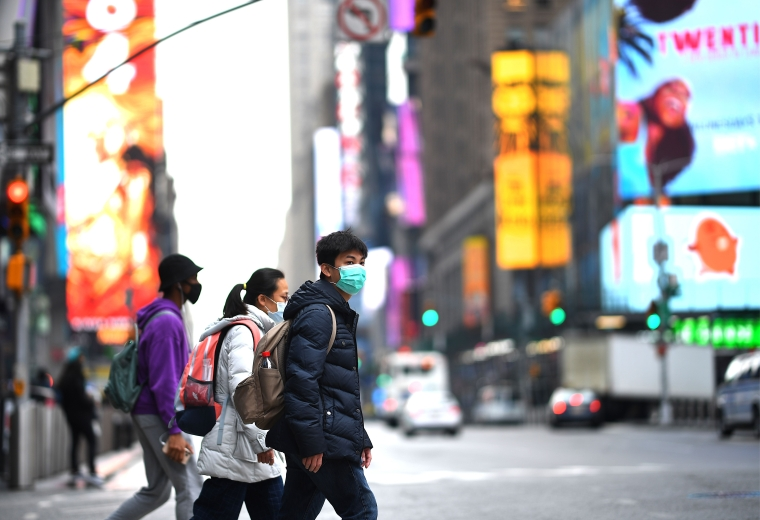person: (269, 228, 386, 516), (102, 251, 208, 520), (192, 264, 290, 518)
